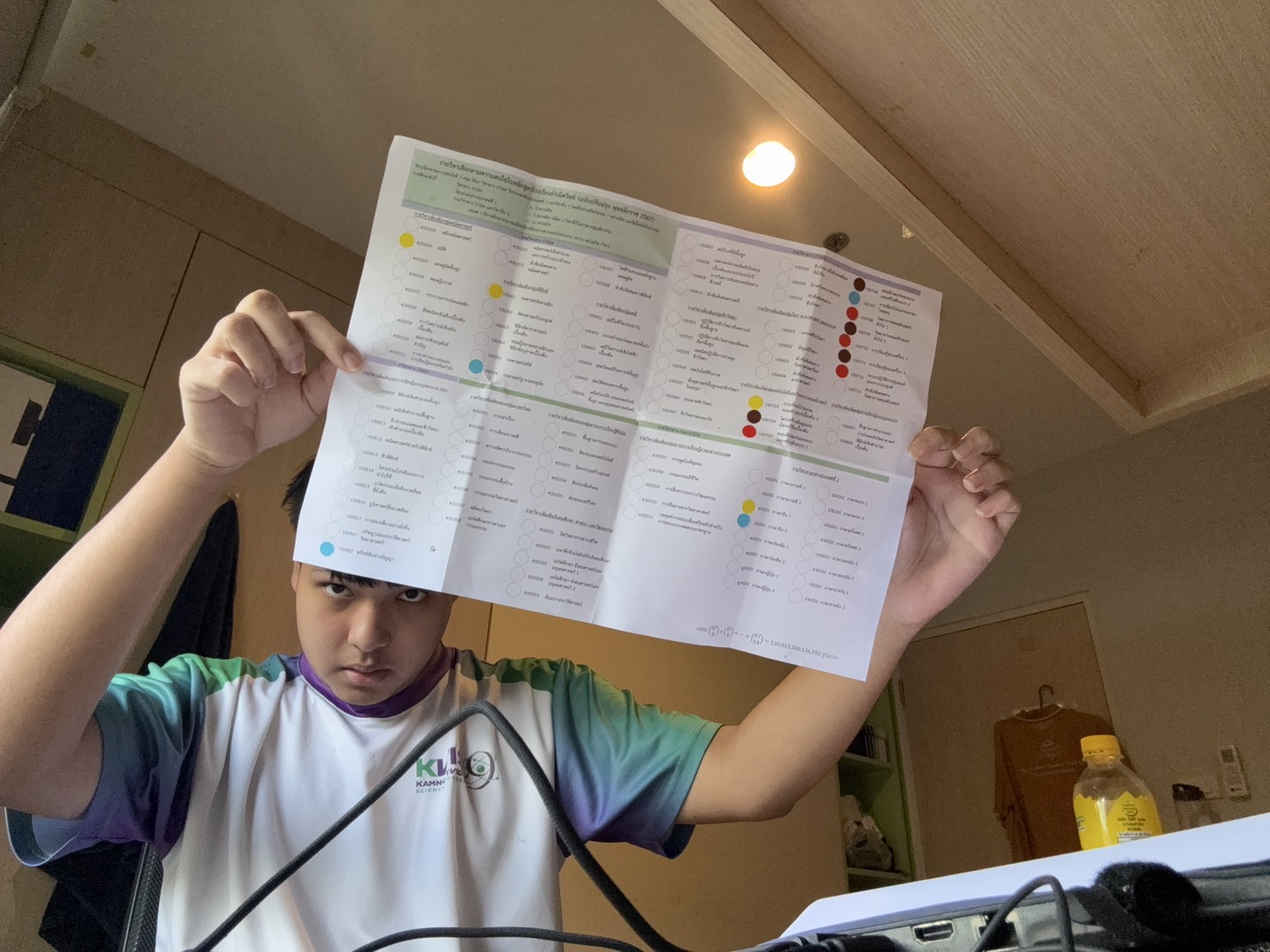paper: (293, 135, 943, 680)
